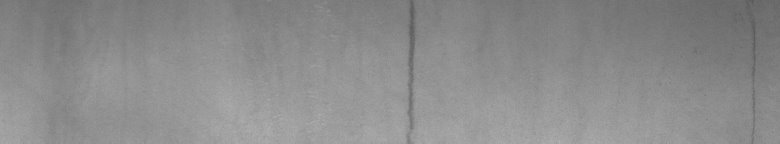hd: (404, 4, 420, 136)
